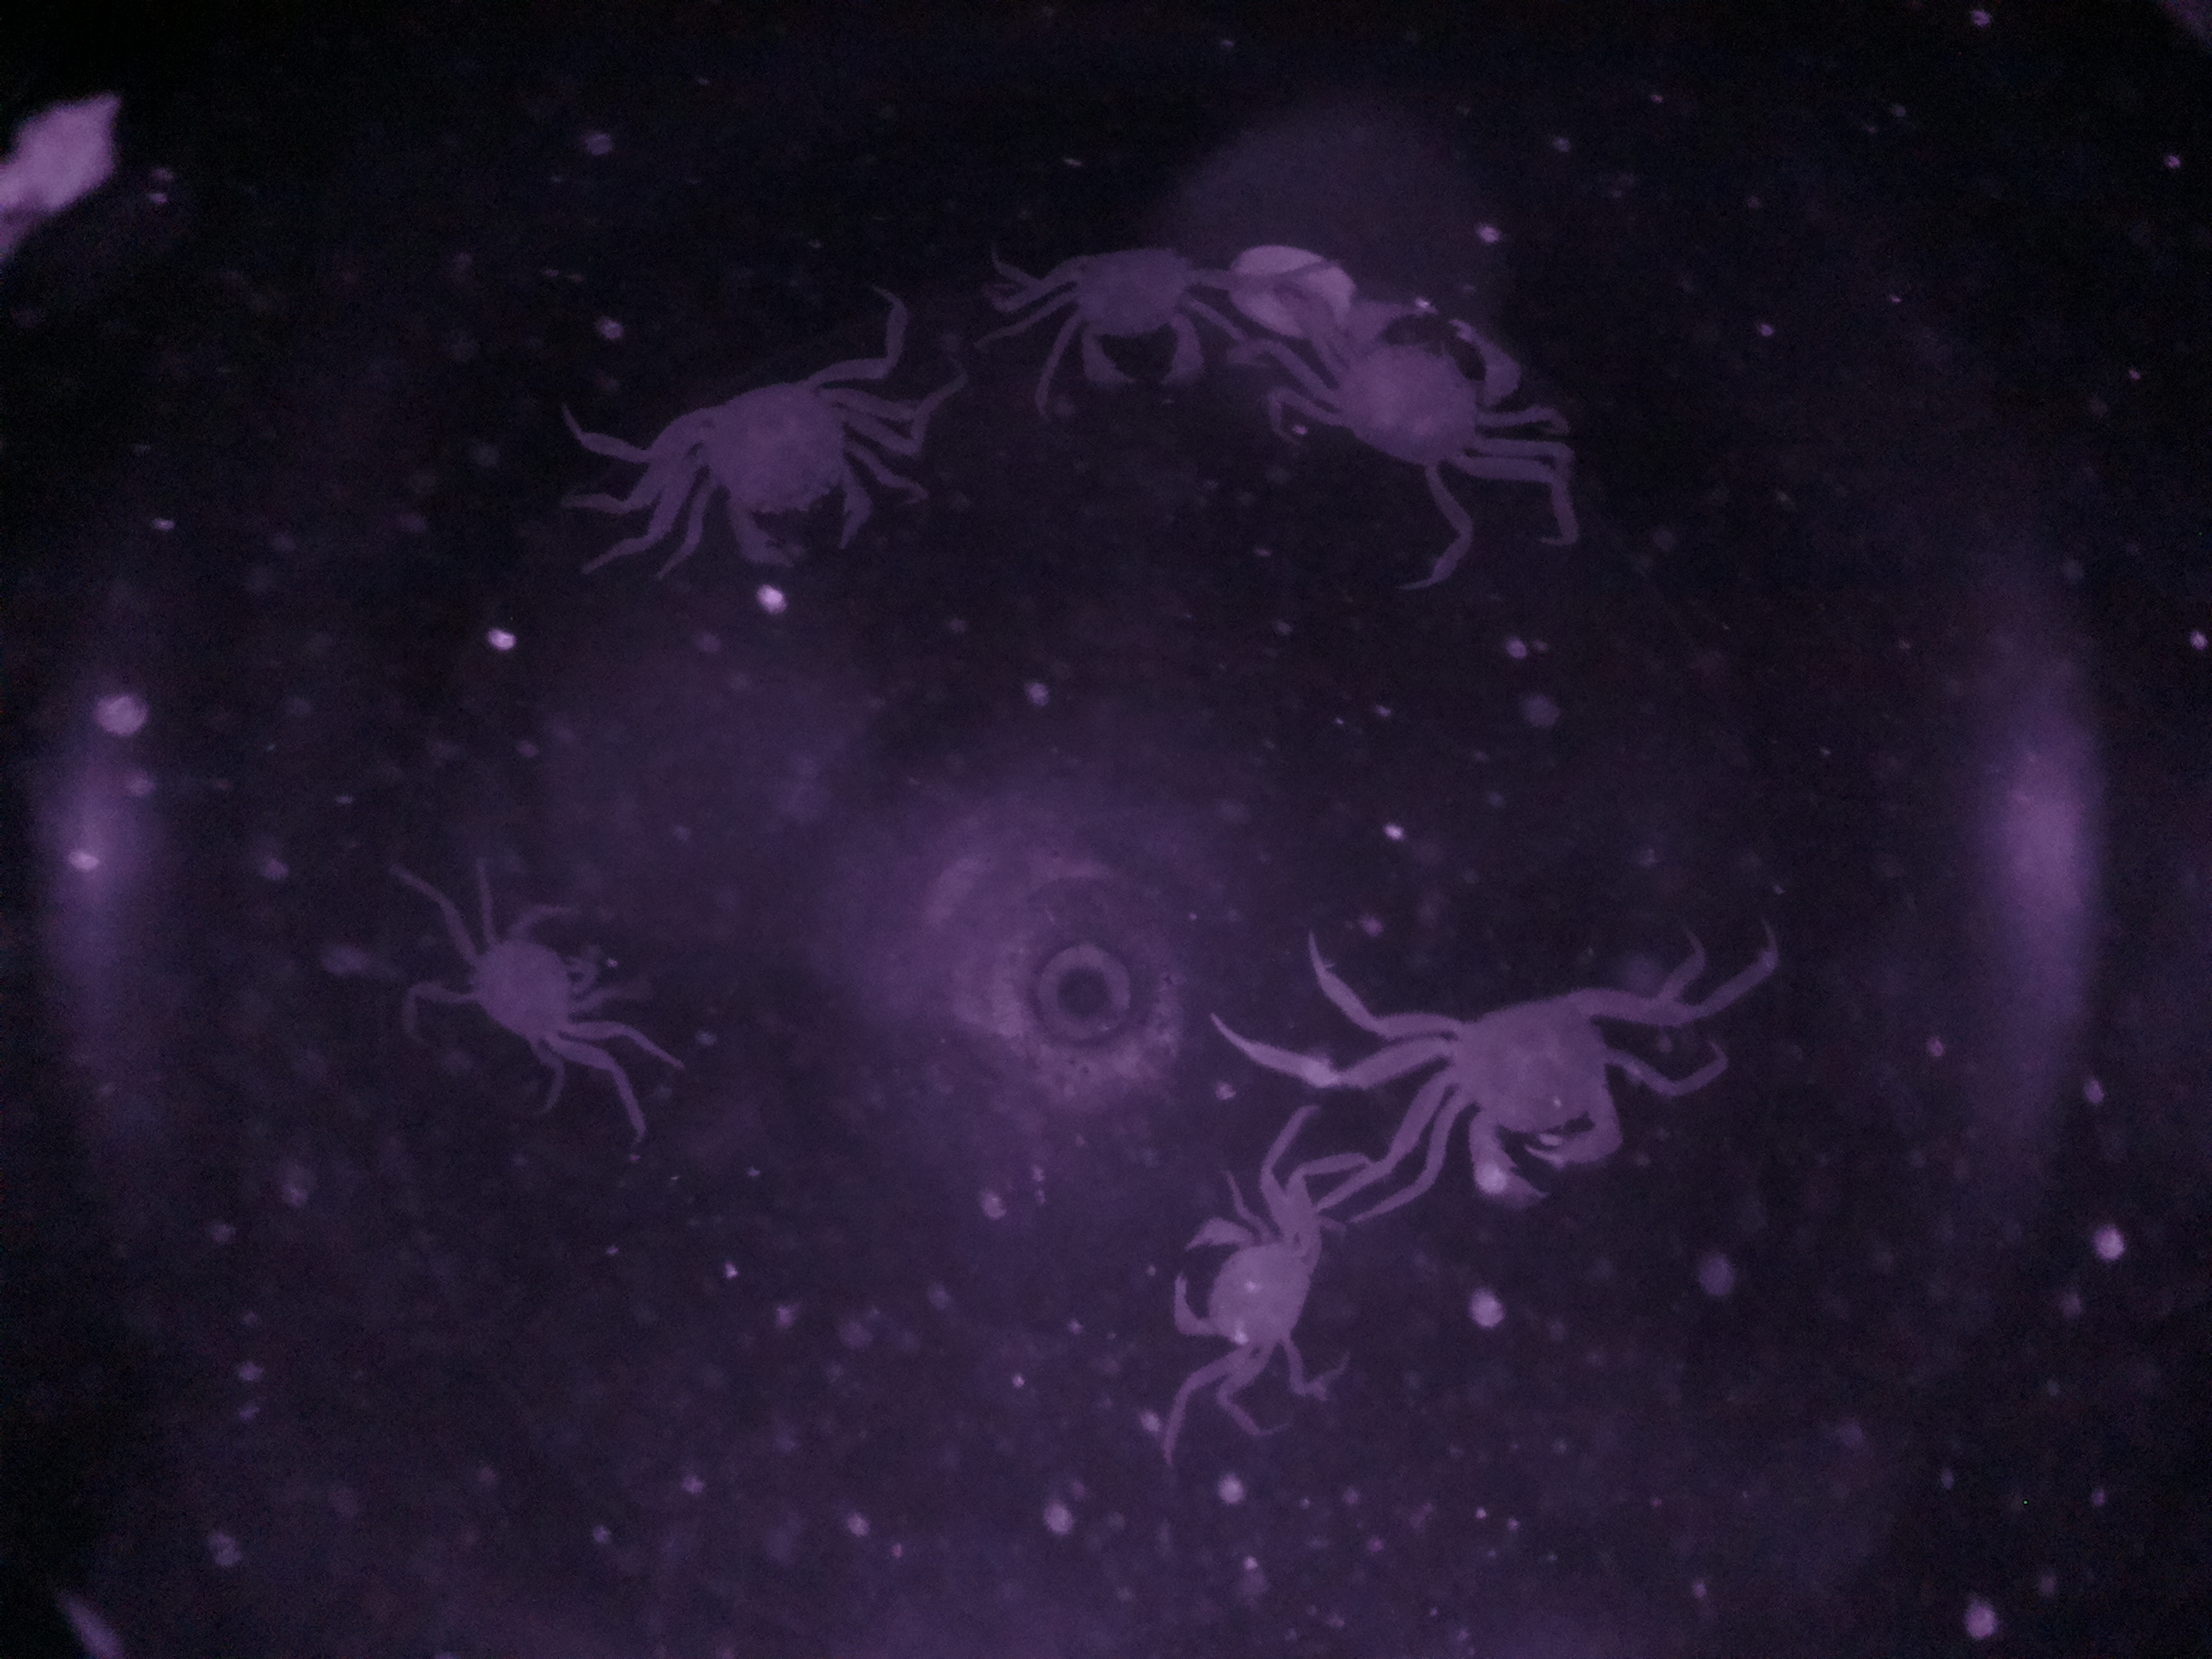Crab: (1385, 943, 1655, 1209), (637, 331, 900, 592), (1289, 282, 1538, 474), (1148, 1168, 1346, 1403), (437, 882, 650, 1072), (1010, 230, 1245, 399)
